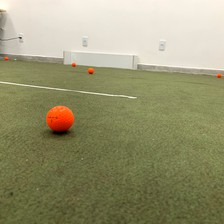ball: (43, 101, 76, 136), (85, 65, 96, 75), (214, 70, 223, 79), (2, 54, 10, 63), (70, 60, 77, 67)
goal: (58, 47, 139, 71)
